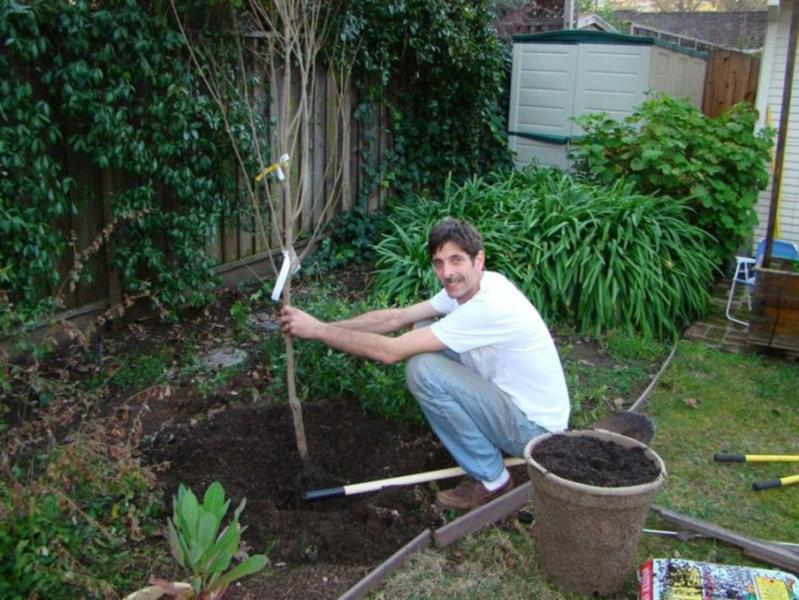person: (281, 219, 572, 514)
